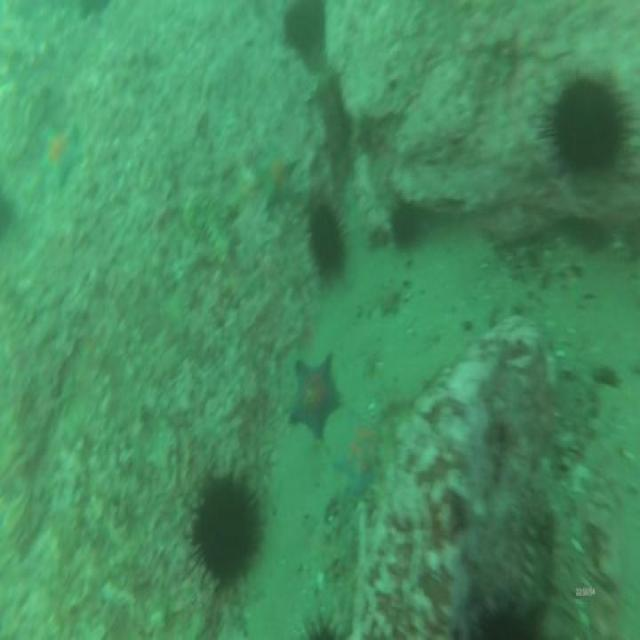echinus: (531, 58, 640, 183), (180, 468, 268, 602), (304, 199, 352, 283), (467, 592, 545, 640), (281, 0, 326, 58), (388, 193, 424, 251), (296, 610, 347, 640)
holothurian: (180, 186, 237, 274), (372, 398, 415, 493), (516, 525, 554, 613)
starfish: (286, 346, 345, 443), (250, 132, 306, 216), (334, 411, 383, 501), (35, 115, 88, 196), (372, 275, 402, 319)
